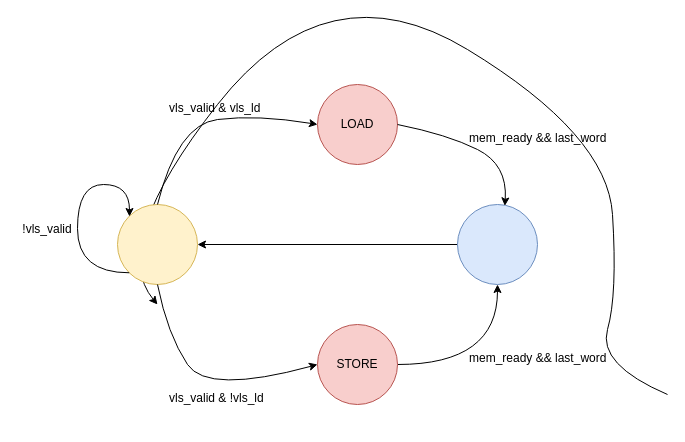
Some shapes in this 685 by 442 pixel diagram are drawn without their labels. Each missing label, with the box of its shape:
DONE: (456, 204, 538, 284)
IDLE: (116, 204, 198, 284)
